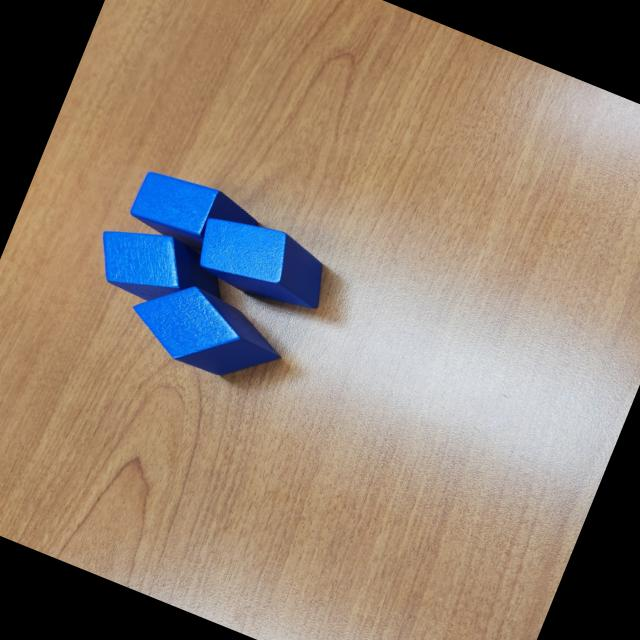blue: (119, 266, 294, 396), (185, 203, 338, 320), (84, 212, 236, 326), (125, 162, 265, 269)
